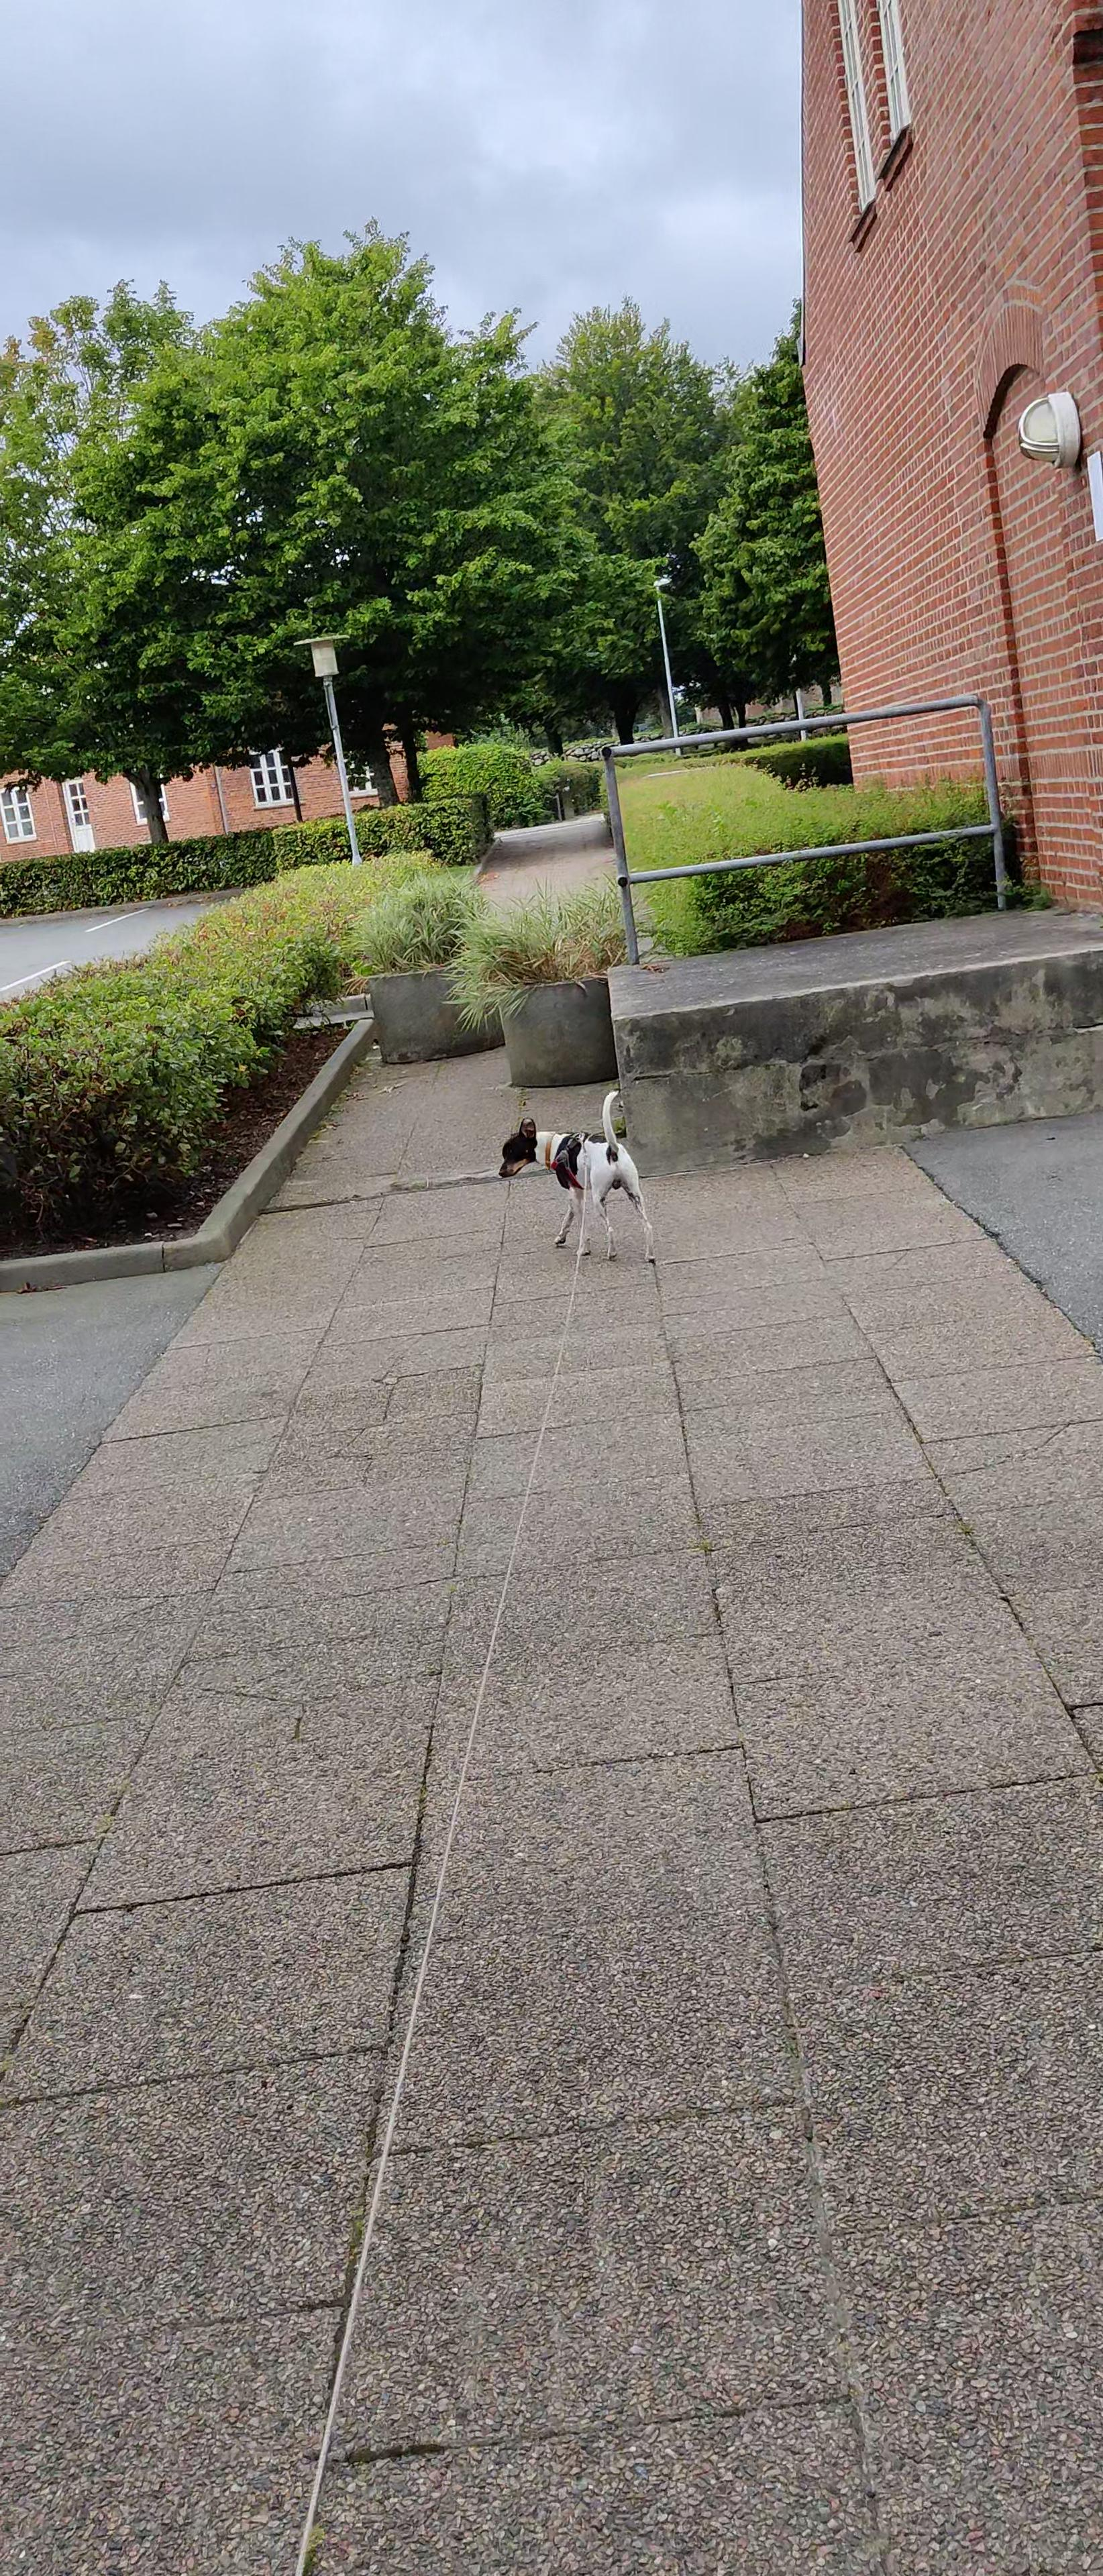Dog: (492, 1083, 664, 1270)
